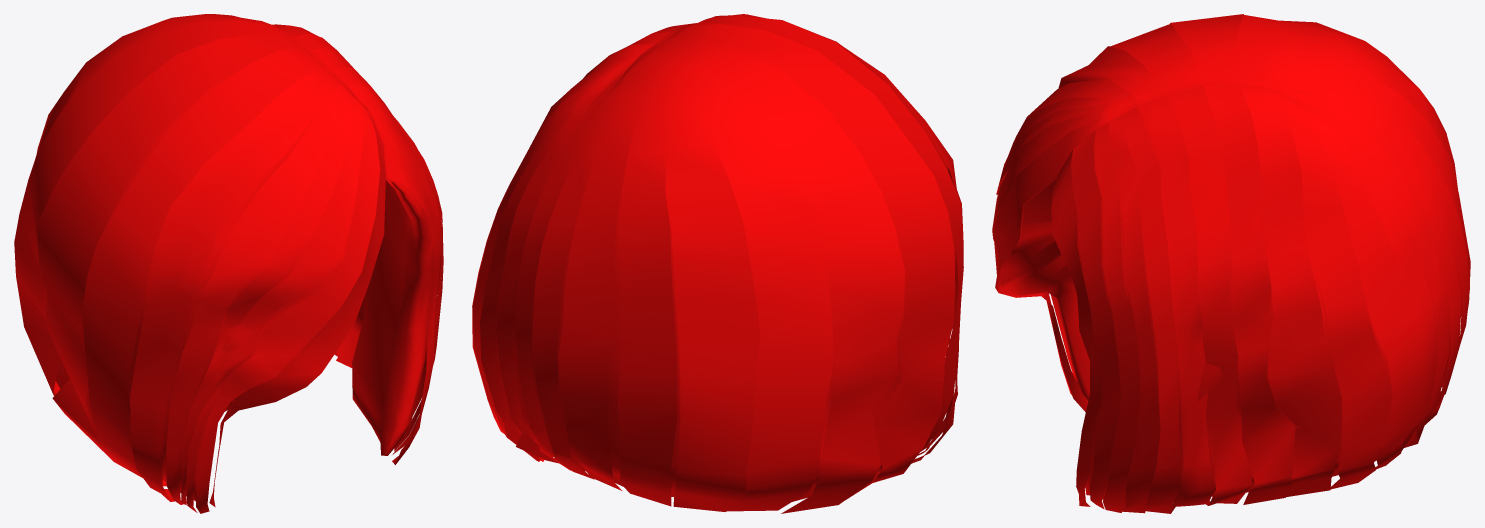
Rendered from bob02_F.glb.
3 renders of one model, left to right at view 1: azimuth 30°, elevation 25°; view 2: azimuth 150°, elevation 25°; view 3: azimuth 270°, elevation 25°, orthographic. The views are drawn at different scales.
Size of the model in its own units: 0.2038 by 0.22 by 0.22.
Materials: 1 (1 with a texture image).
